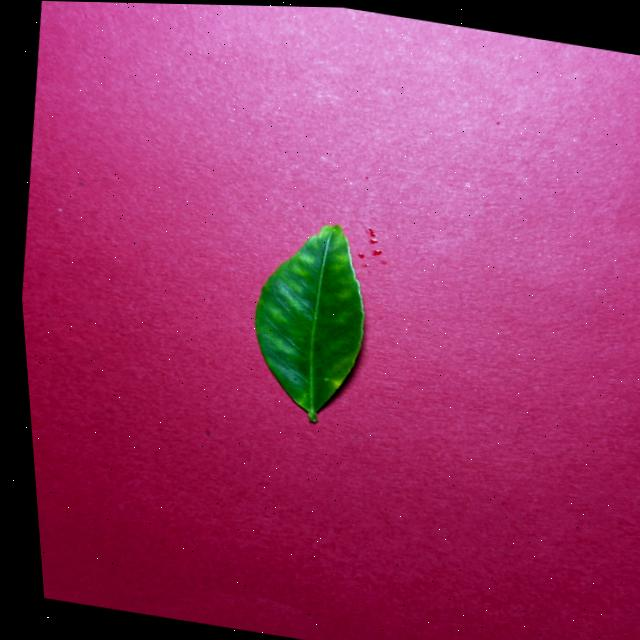greening: (255, 225, 364, 422)
